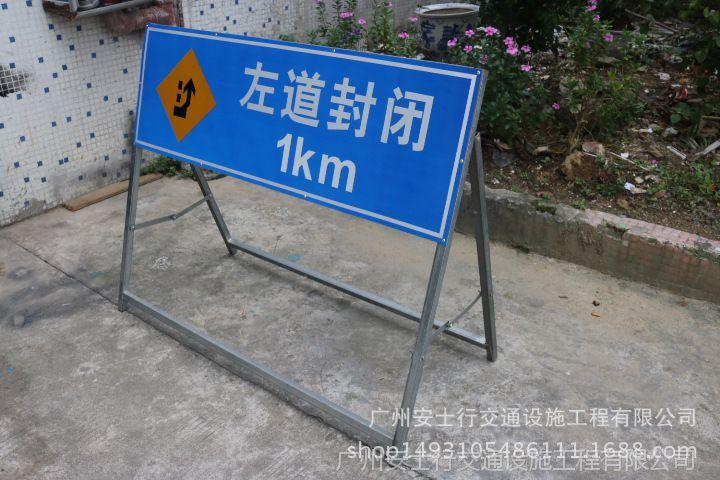sign: (148, 30, 460, 235)
